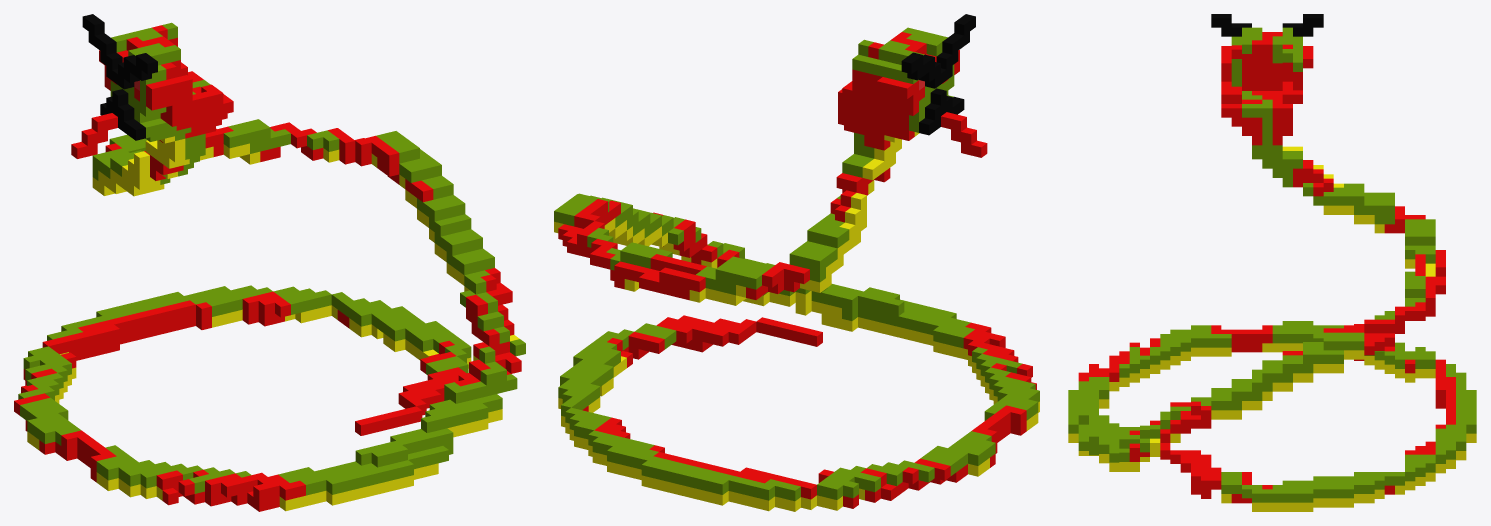
File: SasserModels-0.obj
3 views of the same model, side by side, from view 1: azimuth 30°, elevation 25°; view 2: azimuth 150°, elevation 25°; view 3: azimuth 270°, elevation 25° (orthographic). The views are drawn at different scales.
Bounding box in the file's own units: 4 × 3.8 × 4.
1 material, 1 textured.
